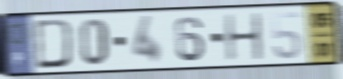0: (78, 17, 110, 69)
4: (129, 12, 165, 69)
5: (269, 10, 303, 61)
6: (173, 15, 207, 63)
D: (33, 17, 76, 72)
H: (223, 11, 266, 64)
